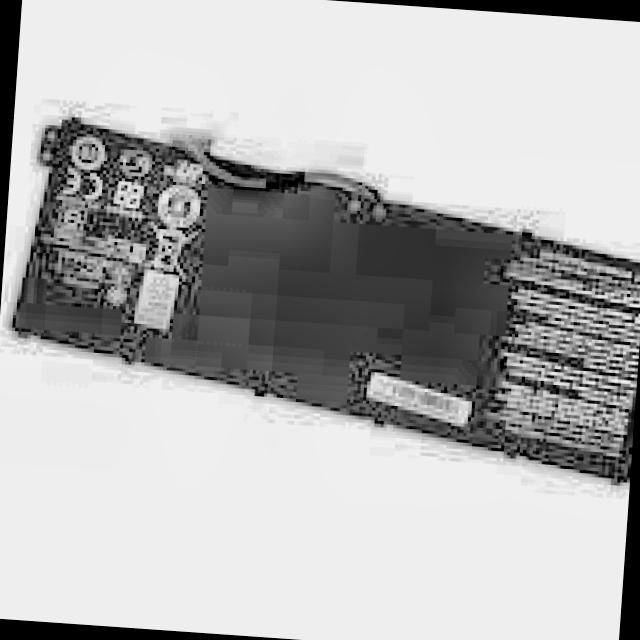Battery: (4, 120, 640, 483)
